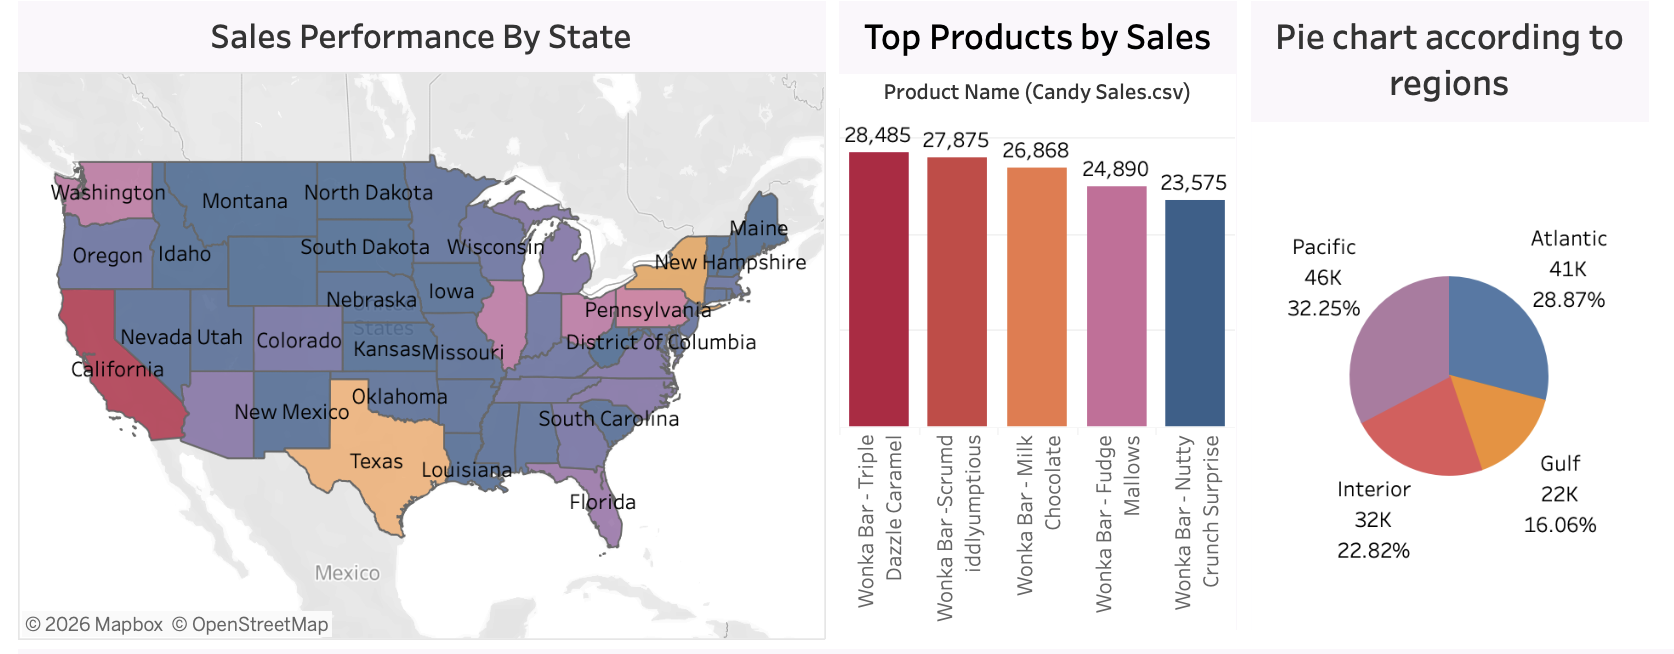

Layout of this report page (visuals, bound fields, positions):
{"tool":"tableau","page":{"name":"Dashboard 2","canvas":[1000,1000],"units":"permille","ordinal":0},"visuals":[{"type":"text","box":[6.5,12.4,987,57.5]},{"type":"worksheet","title":"Sheet 6","mark":"Text","box":[6.5,69.9,247.3,163]},{"type":"worksheet","title":"Sheet 7","mark":"Automatic","box":[253.9,69.9,246.6,163]},{"type":"worksheet","title":"Sheet 8","mark":"Automatic","box":[500.4,69.9,246.5,163]},{"type":"worksheet","title":"Sheet 8 (2)","mark":"Text","box":[747,69.9,246.5,163]},{"type":"worksheet","title":"Sheet 1","mark":"Automatic","box":[0,205,483.3,472.1]},{"type":"worksheet","title":"Sheet 9","mark":"Automatic","rows":["Sales"],"cols":["Product Name (Candy_Sales.csv)"],"box":[483.3,205,241.7,464.3]},{"type":"worksheet","title":"Sheet 12","mark":"Pie","box":[725,205,241.7,464.3]}]}

Visuals, with their boxes on the dashboard's canvas, which has no fixed pixel size, in thousandths of its width and height (x1, y1, x2, y2). These are canvas units, not pixel positions in the 1674x654 screenshot, which may show the page scaled, cropped or inside an application window:
text: [left=6, top=12, right=994, bottom=70]
"Sheet 6" worksheet (Text marks): [left=6, top=70, right=254, bottom=233]
"Sheet 7" worksheet: [left=254, top=70, right=500, bottom=233]
"Sheet 8" worksheet: [left=500, top=70, right=747, bottom=233]
"Sheet 8 (2)" worksheet (Text marks): [left=747, top=70, right=994, bottom=233]
"Sheet 1" worksheet: [left=0, top=205, right=483, bottom=677]
"Sheet 9" worksheet: [left=483, top=205, right=725, bottom=669]
"Sheet 12" worksheet (Pie marks): [left=725, top=205, right=967, bottom=669]
